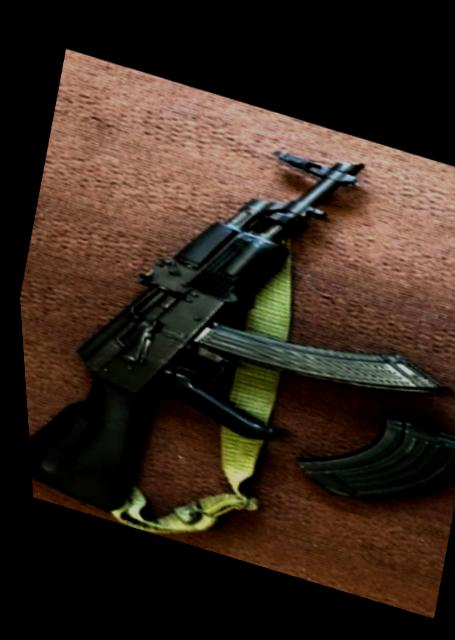rifle: (3, 64, 455, 611)
